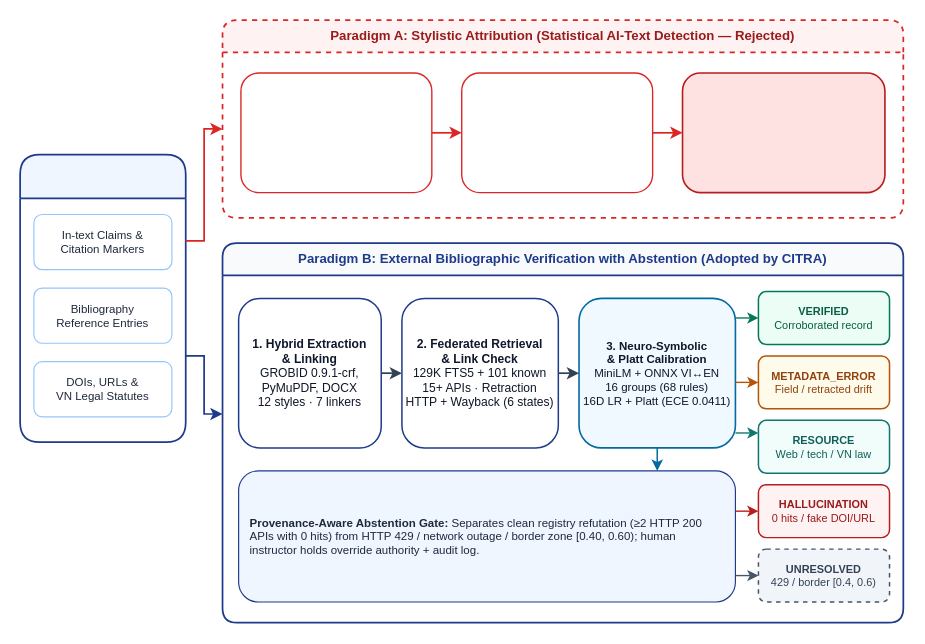
Image size: 925x644. Some labels were removed from this diagram. The shapes that lost their labels are listed below. From the top down, each one's box as (x1, y1, x2, y2) in pixels, then its label:
(240, 72, 432, 193): 1. Surface Stylometry Token perplexity, burstiness & watermarks
(460, 72, 653, 193): 2. Black-Box Classifier Internal score P(AI) Zero external DB lookup
(681, 72, 885, 193): 3. Opaque Binary Claim Evaded by paraphrasing; cannot verify source existence
(19, 153, 186, 443): Submitted Manuscript (PDF / DOCX)
